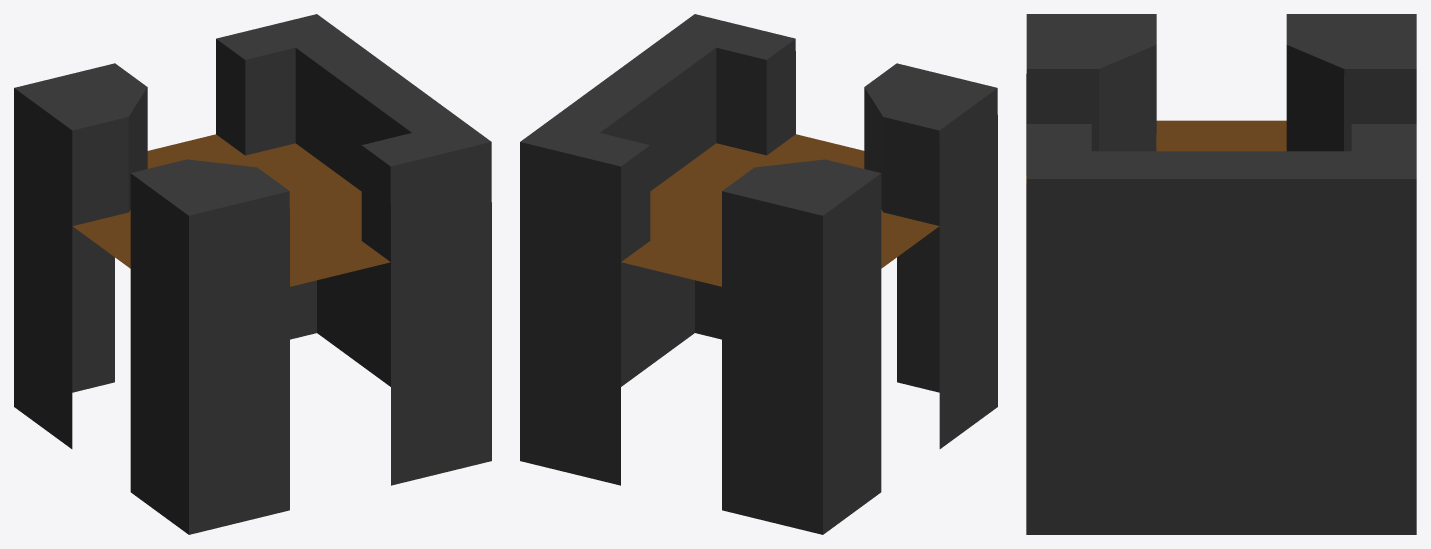
File: join.fbx
The picture shows the model from 3 angles, left to right: view 1: azimuth 30°, elevation 25°; view 2: azimuth 150°, elevation 25°; view 3: azimuth 270°, elevation 25°; orthographic projection. The views are drawn at different scales.
Visible parts, largest first — view 1: Join; view 2: Join; view 3: Join.
Part boxes in pixels (bbox=[...]): Join: bbox=[14, 14, 491, 534]; Join: bbox=[520, 14, 997, 534]; Join: bbox=[1026, 14, 1416, 534].
Bounding box in the file's own units: 200 × 201 × 200.
